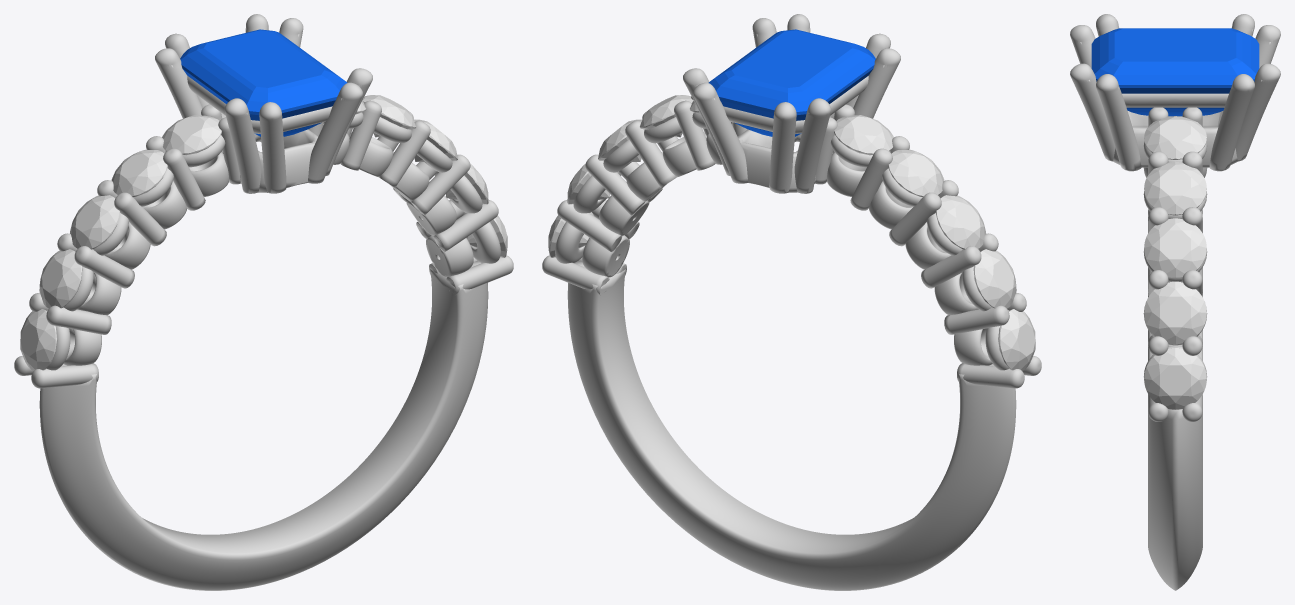
The model's file is bluesapphire-emerald-platinum-8prong-knifeedge-11stone.glb.
3 views of the same model, side by side, from view 1: azimuth 30°, elevation 25°; view 2: azimuth 150°, elevation 25°; view 3: azimuth 270°, elevation 25° (orthographic).
Parts seen in each view (by area): view 1: metal.001, stone, side.004, side.003, side.005, side, side.006, side.010; view 2: metal.001, stone, side.004, side.003, side.005, side, side.006, side.010; view 3: metal.001, stone, side.008, side.007, side.009, side.010, side.011.
Boxes of the visible parts, box(x1,y1,x2,y2) form: metal.001: box(14, 14, 513, 590); stone: box(180, 29, 347, 136); side.004: box(70, 195, 119, 249); side.003: box(39, 249, 82, 308); side.005: box(111, 149, 167, 196); side: box(20, 309, 57, 370); side.006: box(162, 115, 221, 155); side.010: box(362, 95, 415, 137); metal.001: box(542, 14, 1041, 590); stone: box(708, 29, 875, 136); side.004: box(936, 195, 985, 249); side.003: box(973, 249, 1016, 308); side.005: box(888, 149, 944, 196); side: box(998, 309, 1035, 370); side.006: box(834, 115, 893, 155); side.010: box(640, 95, 693, 137); metal.001: box(1070, 14, 1280, 590); stone: box(1091, 28, 1259, 116); side.008: box(1144, 281, 1206, 344); side.007: box(1144, 347, 1206, 409); side.009: box(1144, 218, 1206, 278); side.010: box(1144, 161, 1206, 215); side.011: box(1144, 116, 1206, 159).
Bounding box in the file's own units: 21.87 × 22.94 × 8.4.
